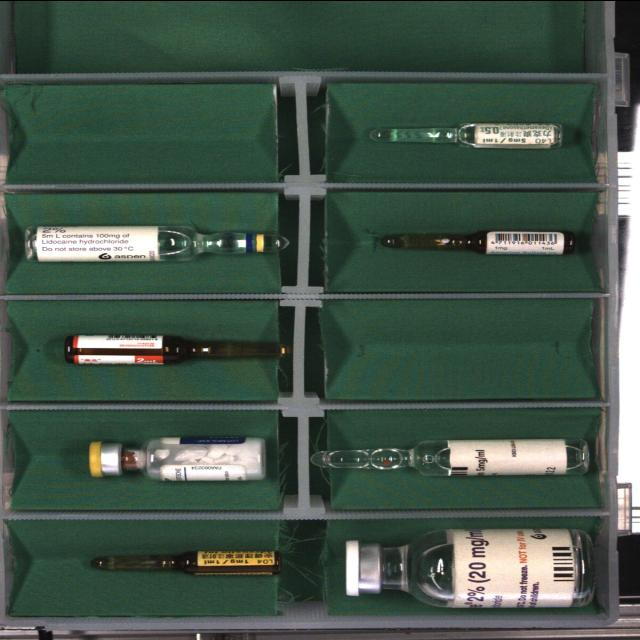Vials: (340, 527, 594, 609), (89, 436, 266, 480)
